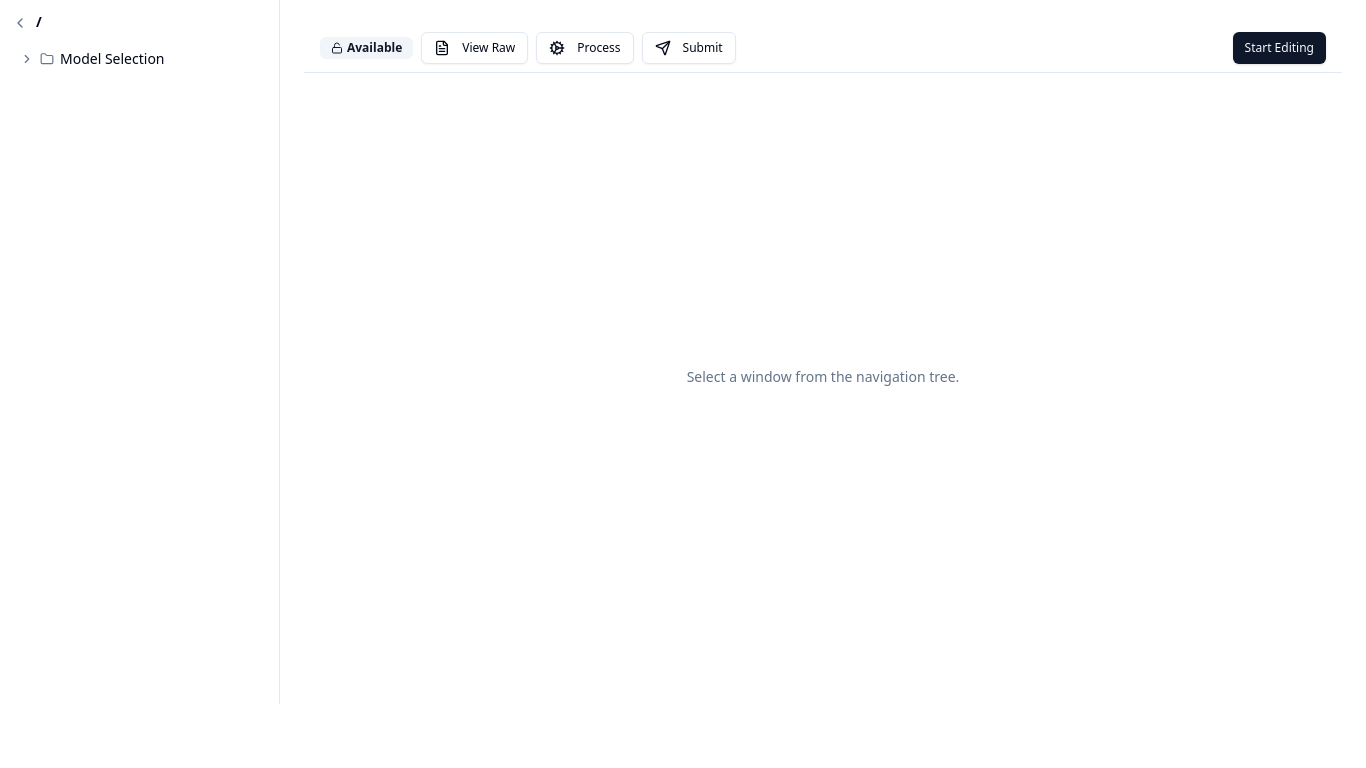
BridgePage › expands tree node on click
Expected: the text "Model Selection" is shown, [60,49,164,69]
Click the button "Model Selection": (140, 59) [12,45,267,73]
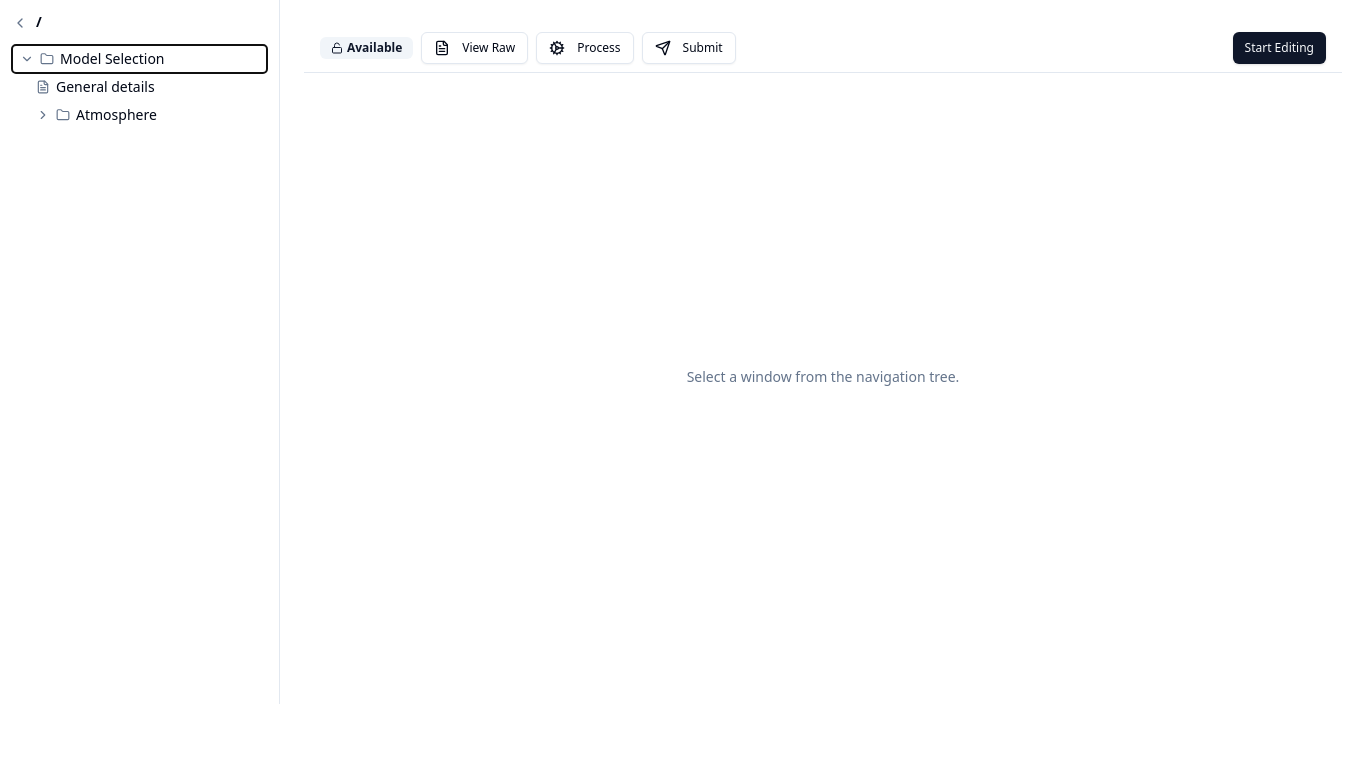
Expected: the text "General details" is shown, [56,77,155,97]
